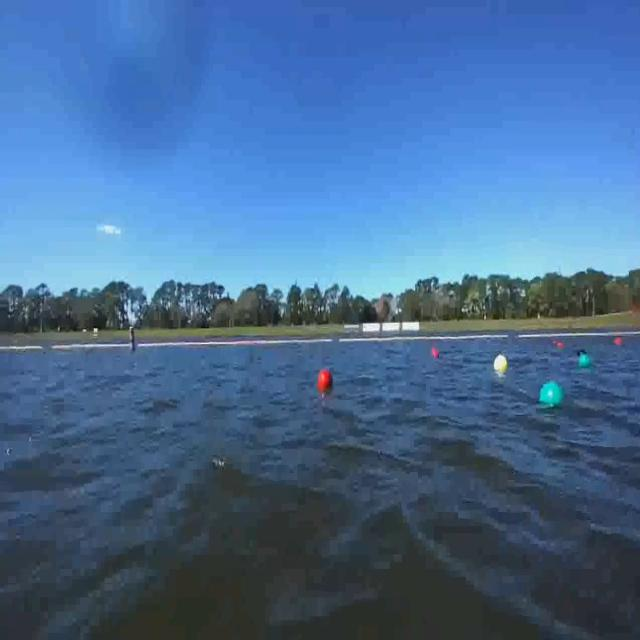green-buoy: (542, 380, 566, 406), (578, 354, 590, 369)
red-buoy: (321, 368, 336, 392), (432, 347, 439, 359), (616, 338, 624, 347)
yellow-buoy: (494, 355, 508, 373)
